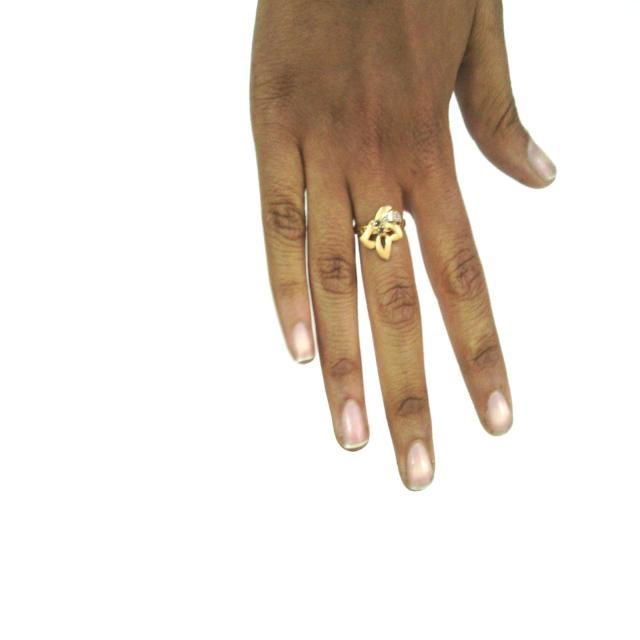Fingernail: (340, 399, 367, 449), (407, 441, 433, 490), (528, 139, 555, 180), (486, 392, 511, 434), (292, 324, 313, 362)
